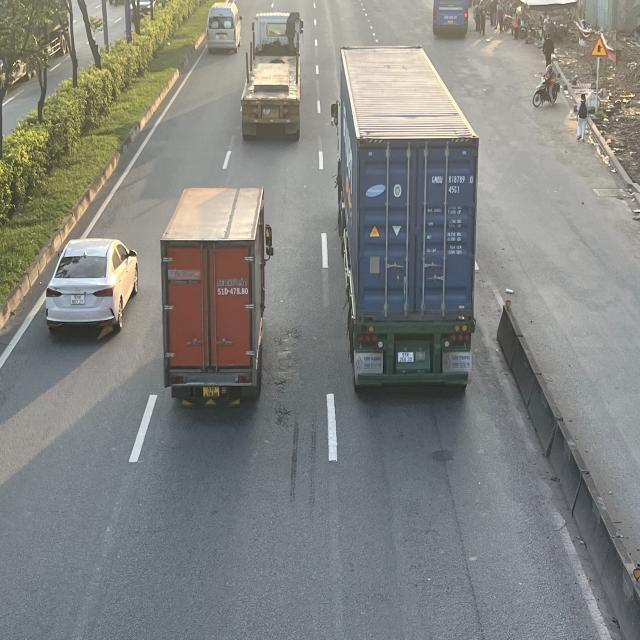car: (45, 237, 139, 341)
coach: (432, 0, 468, 34)
container: (334, 41, 479, 393), (243, 11, 307, 141)
truck: (164, 187, 278, 410)
van: (206, 3, 241, 53)
